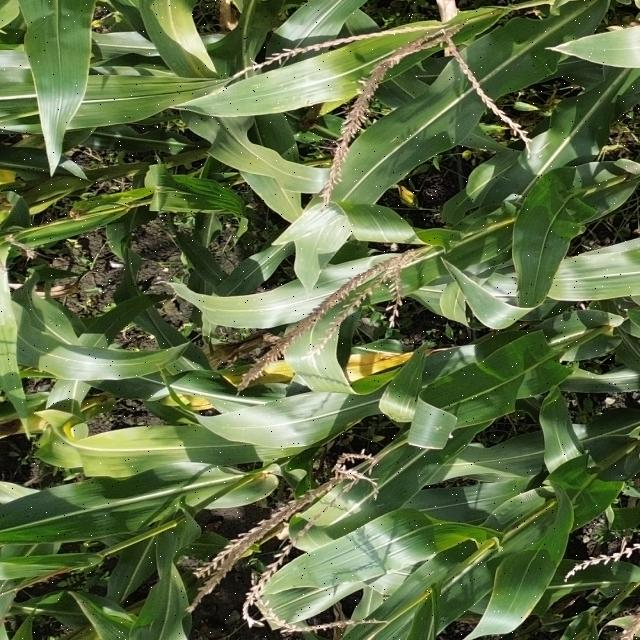northern-leaf-blight: (166, 341, 407, 426)
southern-leaf-blight: (478, 202, 602, 339), (278, 186, 371, 298)
